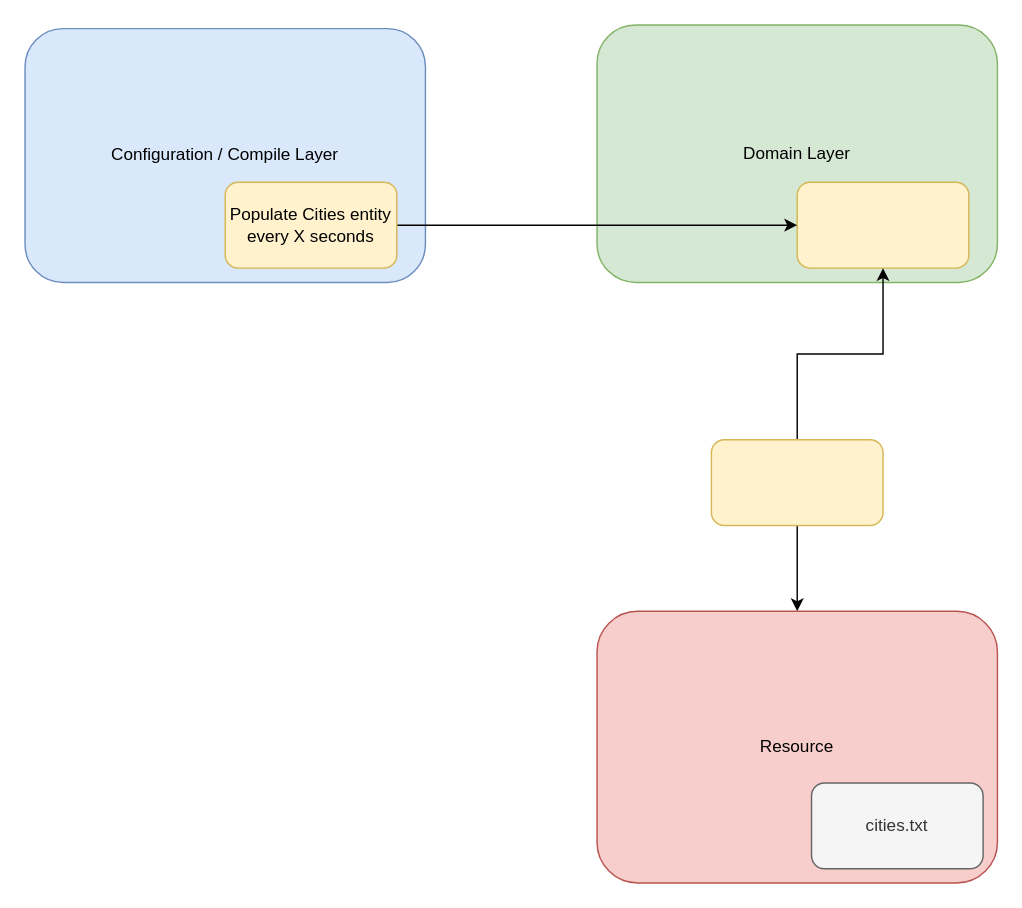
This 1022x908 diagram has some shape labels left out. Here are the shapes that lost their labels. From the top down, the centre of each, then its label:
At (x=882, y=224): "City Repository Interface".
At (x=796, y=482): "City Repository".
